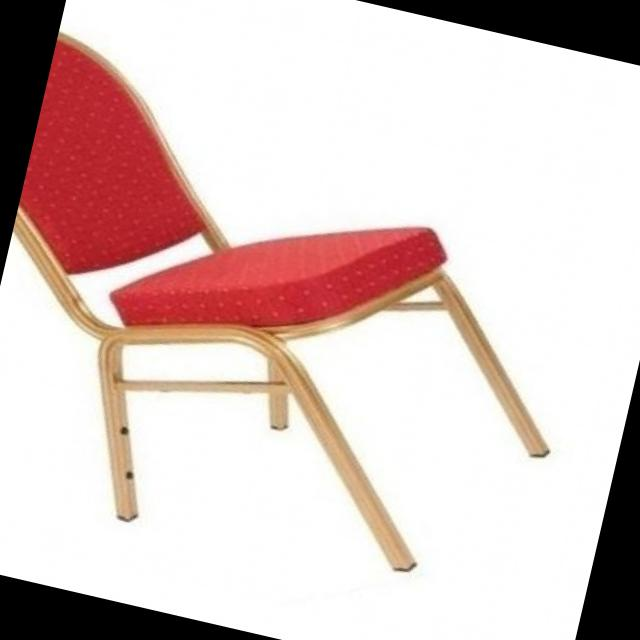Chair: (0, 23, 621, 619)
